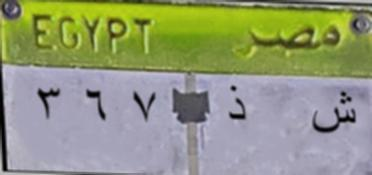3: (34, 84, 64, 126)
6: (79, 86, 112, 130)
7: (130, 84, 157, 130)
sheen: (306, 89, 358, 140)
zaal: (219, 83, 251, 130)
